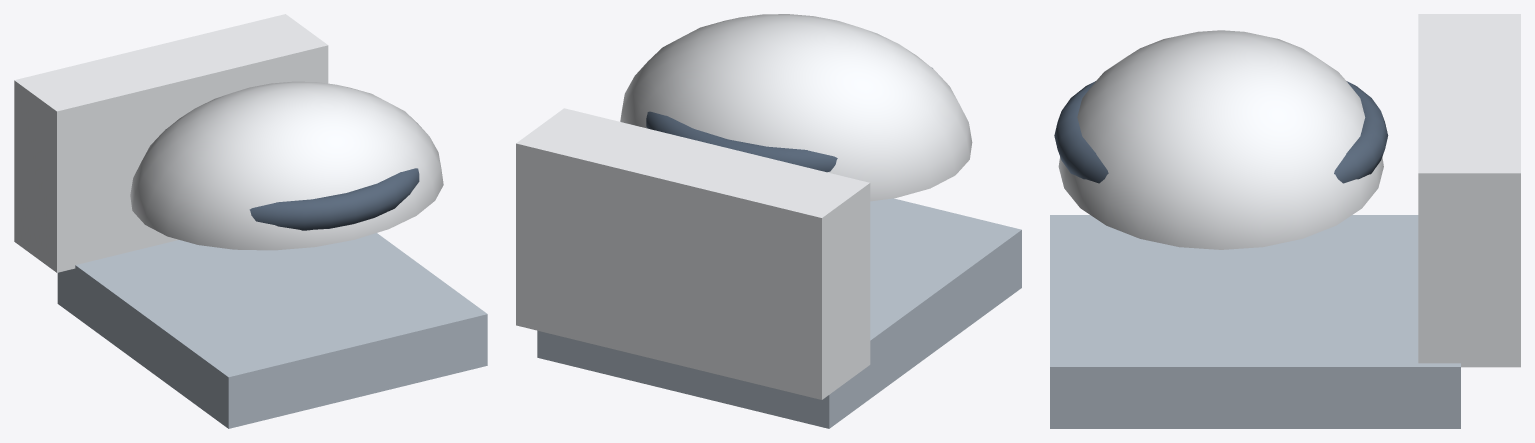
File: toilet.glb
The picture shows the model from 3 angles, left to right: view 1: azimuth 30°, elevation 25°; view 2: azimuth 150°, elevation 25°; view 3: azimuth 270°, elevation 25°; orthographic projection. The views are drawn at different scales.
Parts seen in each view (by area): view 1: toilet base plinth, rectangular flush tank, rounded ceramic toilet bowl, open toilet seat ring; view 2: rectangular flush tank, rounded ceramic toilet bowl, toilet base plinth, open toilet seat ring; view 3: toilet base plinth, rounded ceramic toilet bowl, rectangular flush tank, open toilet seat ring.
Boxes of the visible parts, x1,y1,x2,y2 form: toilet base plinth: [57, 233, 487, 428]; rectangular flush tank: [14, 14, 328, 272]; rounded ceramic toilet bowl: [130, 81, 443, 250]; open toilet seat ring: [165, 129, 419, 230]; rectangular flush tank: [516, 108, 870, 399]; rounded ceramic toilet bowl: [620, 14, 972, 201]; toilet base plinth: [537, 198, 1021, 428]; open toilet seat ring: [646, 68, 932, 172]; toilet base plinth: [1050, 215, 1460, 428]; rounded ceramic toilet bowl: [1058, 30, 1383, 249]; rectangular flush tank: [1418, 14, 1520, 367]; open toilet seat ring: [1054, 81, 1388, 183].
Size of the model in its own units: 0.47 by 0.38 by 0.55.
